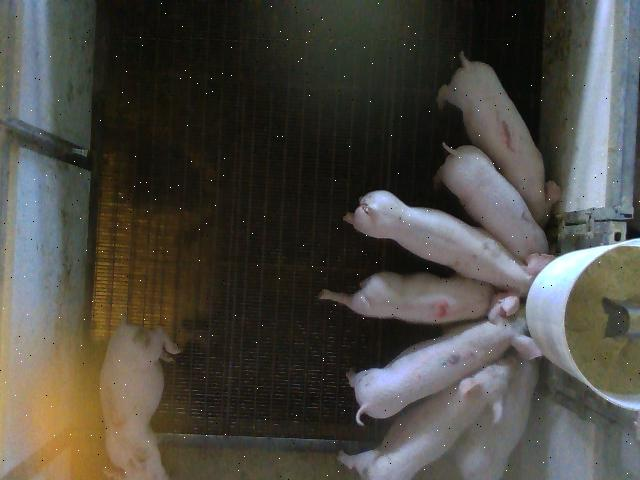pig-1: (439, 51, 561, 226)
pig-3: (100, 320, 180, 478)
pig-4: (319, 271, 495, 324)
